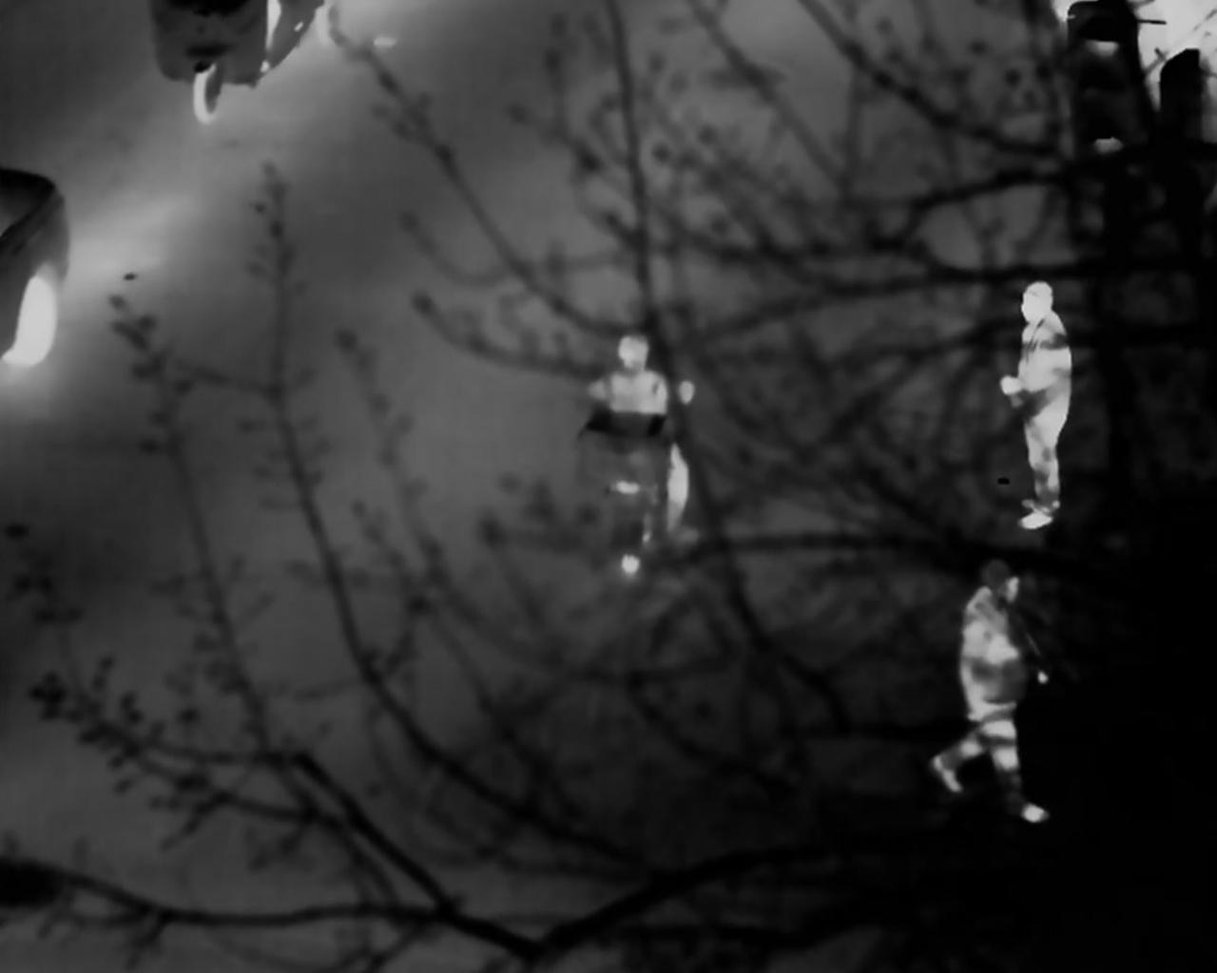person: (938, 568, 1061, 829), (982, 283, 1087, 519), (593, 333, 704, 538)
